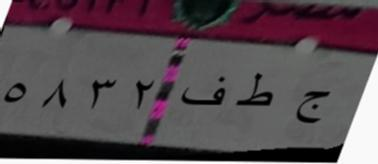2: (131, 71, 159, 110)
3: (89, 72, 116, 113)
5: (4, 74, 28, 110)
8: (40, 78, 71, 112)
Taa: (235, 67, 276, 117)
faa: (179, 70, 227, 121)
jeem: (294, 81, 330, 129)
